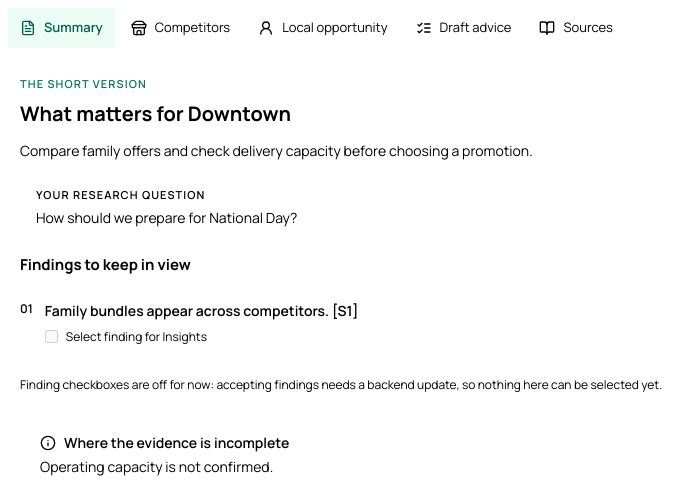
Test: ReportReaderView › renders sources as short labels with domain titles and no internal digest
Click the button "Sources".
click(576, 28)  # box [528, 8, 625, 48]
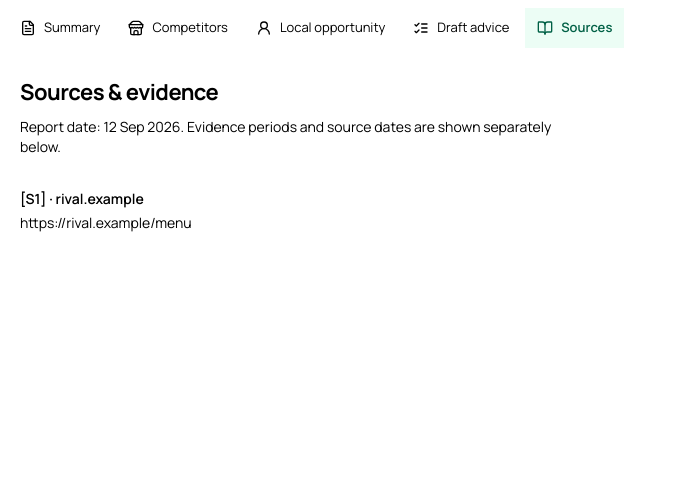
Expected: the element with test id "reader-source-S1" shows "[S1] · rival.example", [20, 188, 192, 232]
